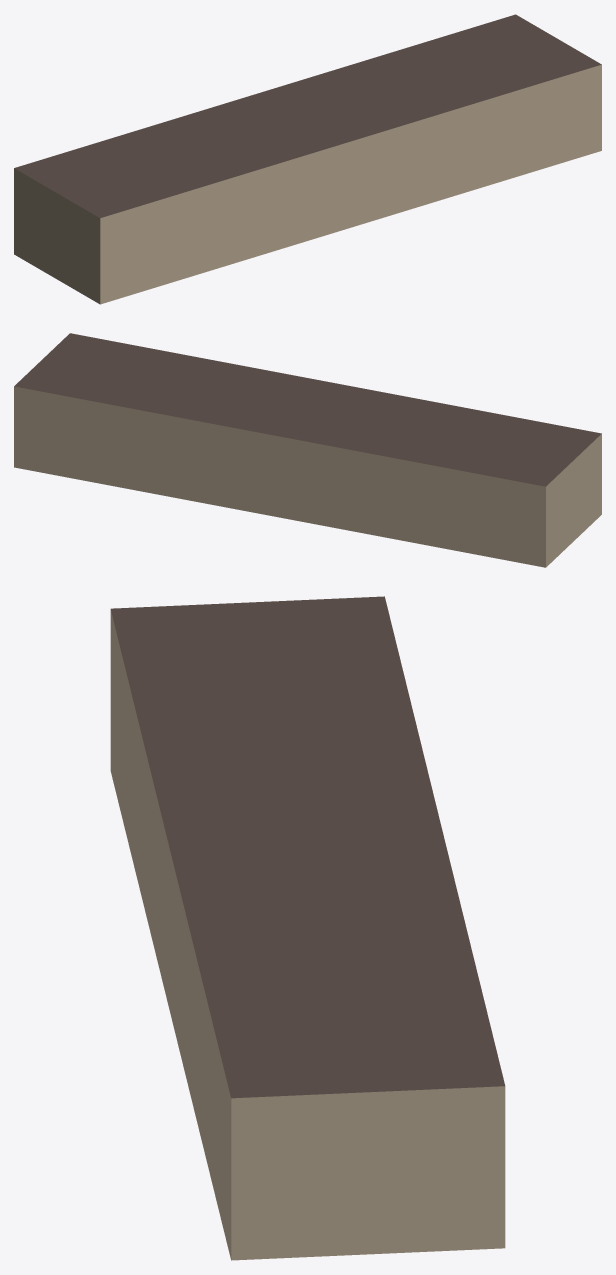
3 renders of one model, top to bottom at view 1: azimuth 30°, elevation 25°; view 2: azimuth 150°, elevation 25°; view 3: azimuth 270°, elevation 25°, orthographic. The views are drawn at different scales.
Visible parts, largest first — view 1: HP-w299011323; view 2: HP-w299011323; view 3: HP-w299011323.
Boxes of the visible parts, x1=… form: HP-w299011323: x1=14, y1=14, x2=601, y2=304; HP-w299011323: x1=14, y1=333, x2=601, y2=567; HP-w299011323: x1=110, y1=596, x2=505, y2=1260.
Size of the model in its own units: 59.73 by 9 by 19.86.
